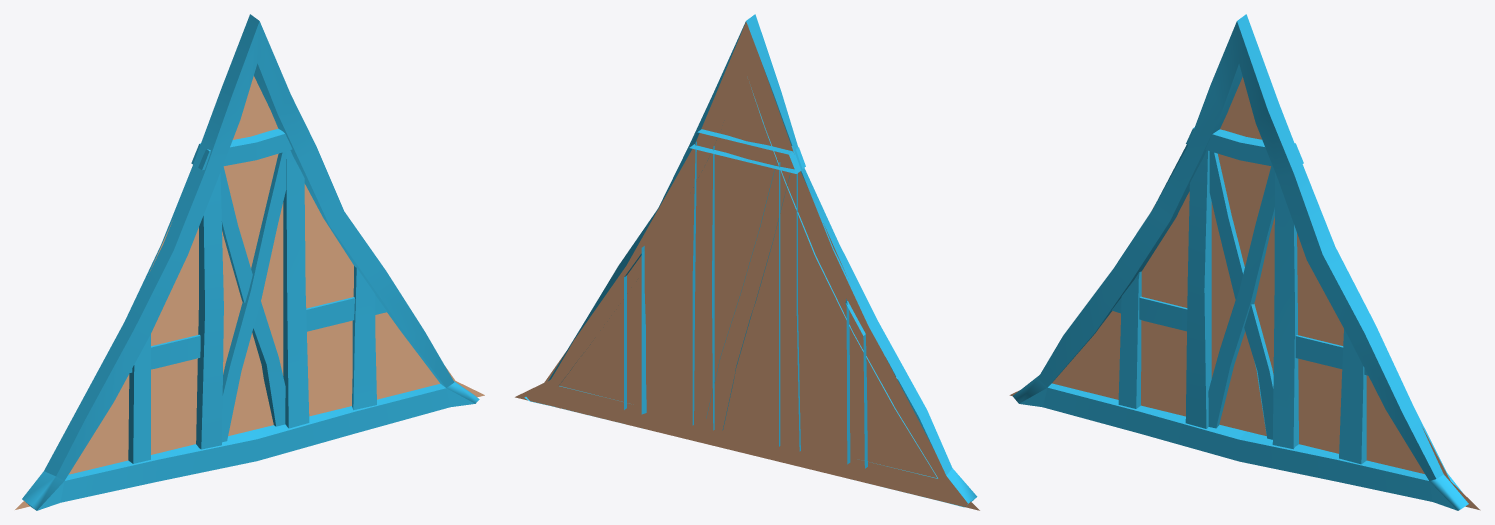
File: Roof_Wall_01.fbx
3 renders of one model, left to right at view 1: azimuth 30°, elevation 25°; view 2: azimuth 150°, elevation 25°; view 3: azimuth 330°, elevation 25°, orthographic.
Visible parts, largest first — view 1: Roof_Wall_01; view 2: Roof_Wall_01; view 3: Roof_Wall_01.
Part boxes in pixels (x1,y1,x2,y2): Roof_Wall_01: (15,14,484,510); Roof_Wall_01: (515,14,979,510); Roof_Wall_01: (1009,14,1480,510).
Size of the model in its own units: 760 by 681 by 37.94.
